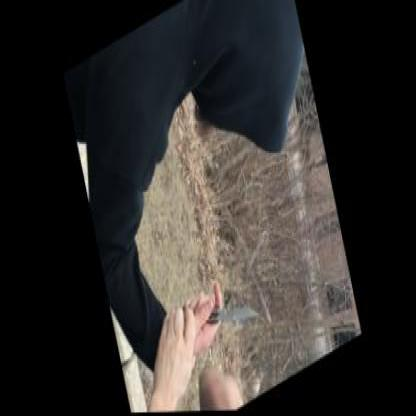knife: (177, 252, 262, 362)
